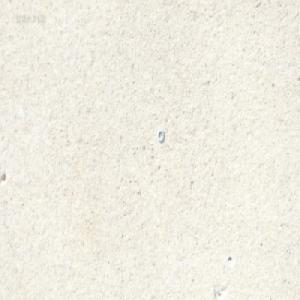Washer: (157, 128, 164, 142)
